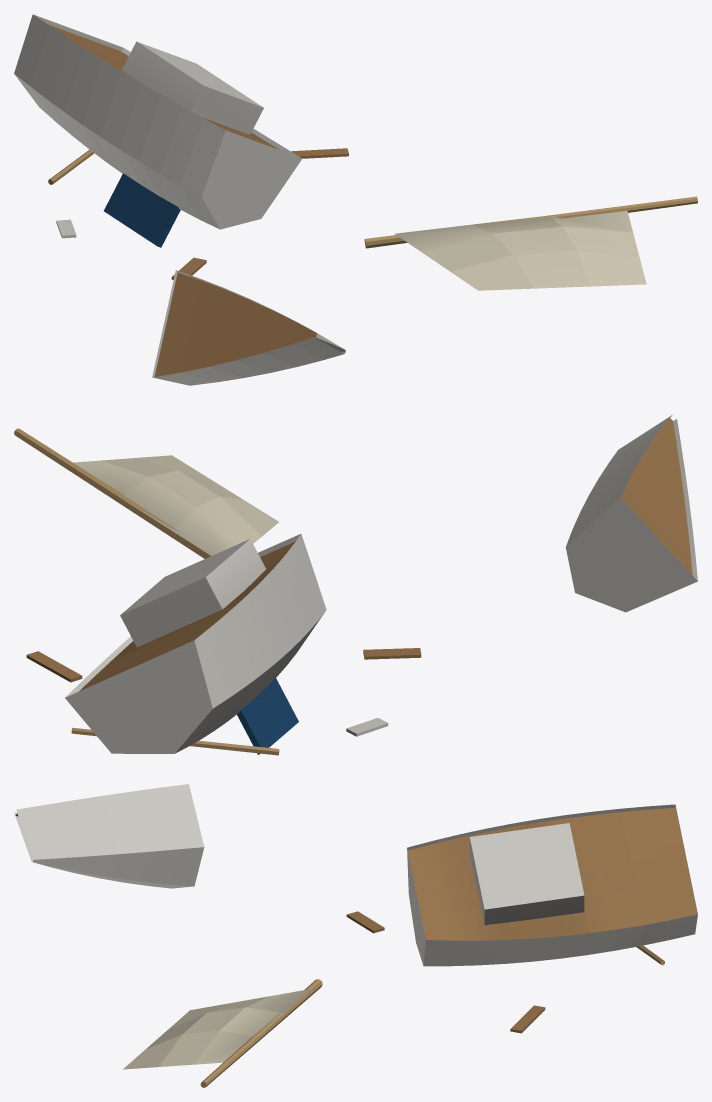
Rendered from Wreck.fbx.
3 renders of one model, top to bottom at view 1: azimuth 30°, elevation 25°; view 2: azimuth 150°, elevation 25°; view 3: azimuth 270°, elevation 25°, orthographic. The views are drawn at different scales.
Visible parts, largest first — view 1: Wreck; view 2: Wreck; view 3: Wreck.
Part boxes in pixels (<box>): Wreck: <box>14,14,697,385</box>; Wreck: <box>14,415,697,755</box>; Wreck: <box>14,784,697,1087</box>.
Size of the model in its own units: 9.18 by 2.46 by 10.13.
